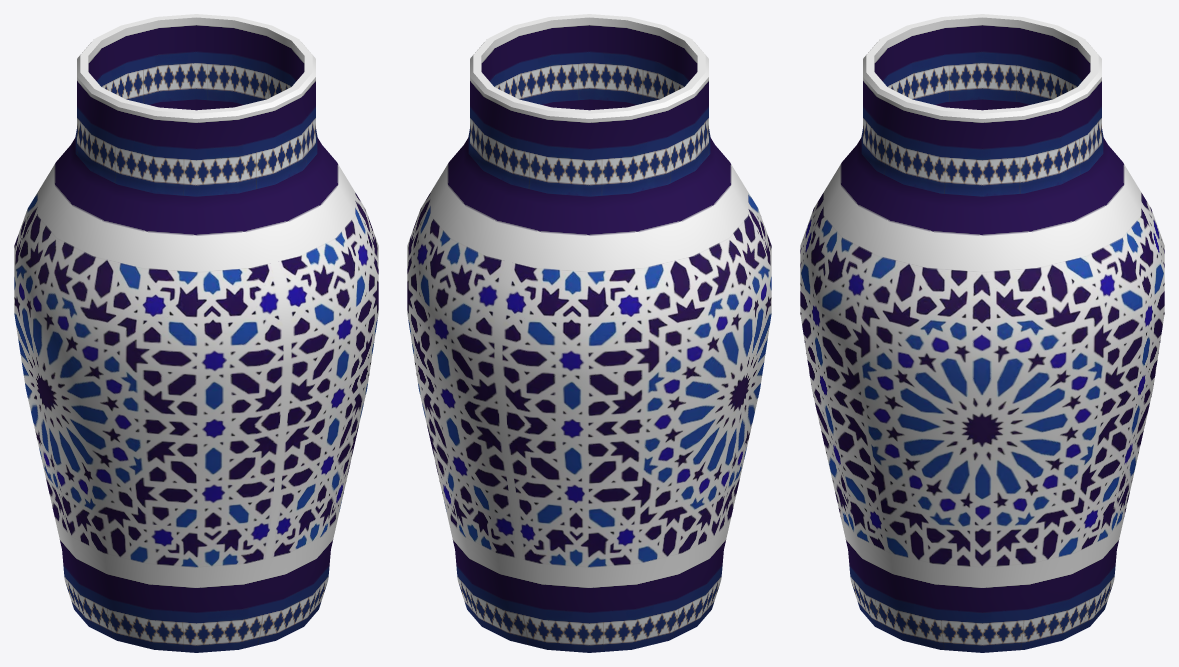
Rendered from Arabic vase 1.fbx.
The picture shows the model from 3 angles, left to right: view 1: azimuth 30°, elevation 25°; view 2: azimuth 150°, elevation 25°; view 3: azimuth 270°, elevation 25°; orthographic projection.
Visible parts, largest first — view 1: Arabic vase 1; view 2: Arabic vase 1; view 3: Arabic vase 1.
Boxes of the visible parts, bbox=[...] form: Arabic vase 1: bbox=[14, 14, 378, 652]; Arabic vase 1: bbox=[407, 14, 771, 652]; Arabic vase 1: bbox=[800, 14, 1164, 652].
Bounding box in the file's own units: 34.96 × 55.99 × 34.42.
1 material, 1 textured.
